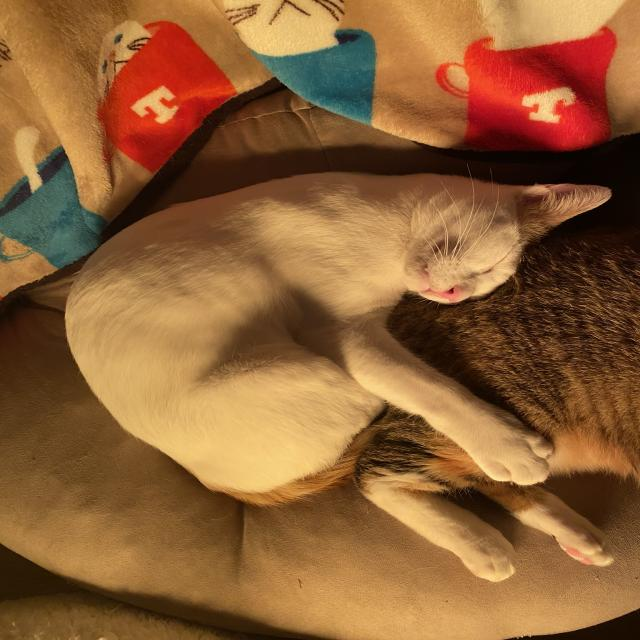cat1: (62, 176, 623, 507)
